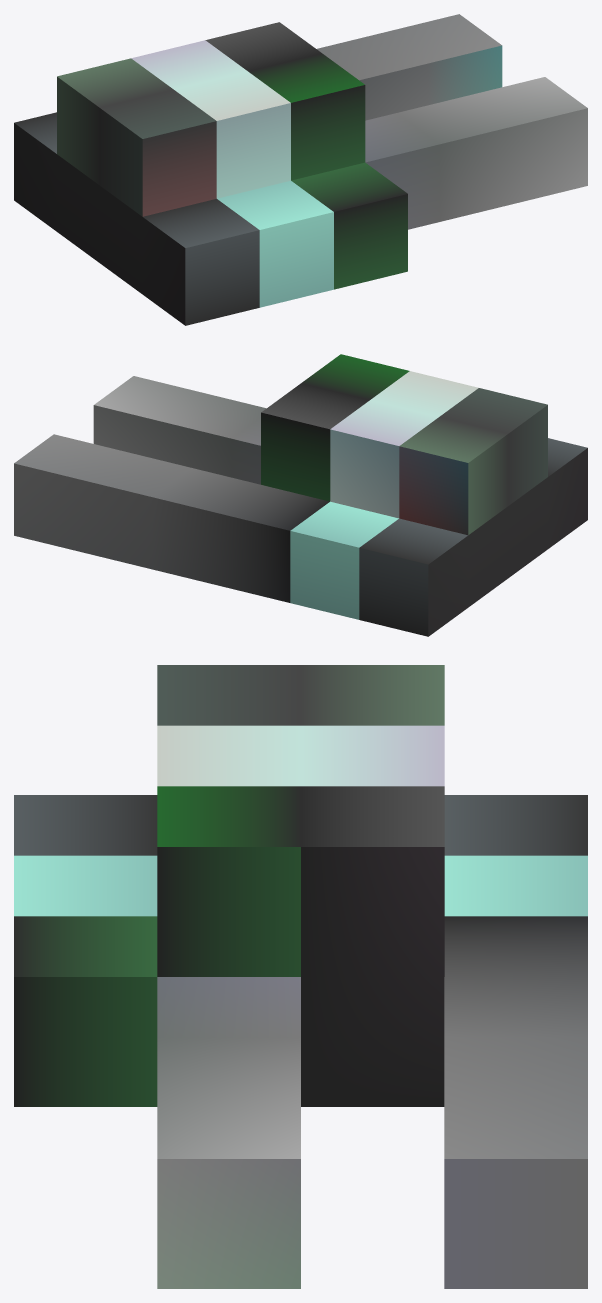
File: Cable_Plug_00.fbx
3 renders of one model, top to bottom at view 1: azimuth 30°, elevation 25°; view 2: azimuth 150°, elevation 25°; view 3: azimuth 270°, elevation 25°, orthographic. The views are drawn at different scales.
Visible parts, largest first — view 1: Cable_Plug_00; view 2: Cable_Plug_00; view 3: Cable_Plug_00.
Boxes of the visible parts, x1=… form: Cable_Plug_00: x1=14, y1=14, x2=587, y2=325; Cable_Plug_00: x1=14, y1=354, x2=587, y2=636; Cable_Plug_00: x1=14, y1=665, x2=587, y2=1288.
Bounding box in the file's own units: 30 × 10 × 20.
